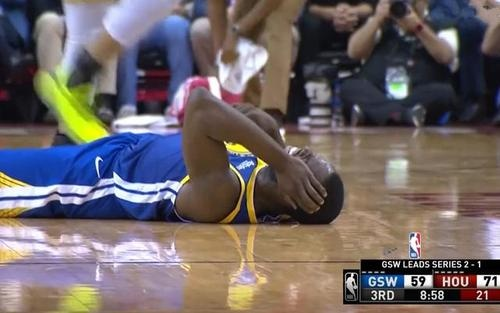falling: (7, 80, 342, 232)
